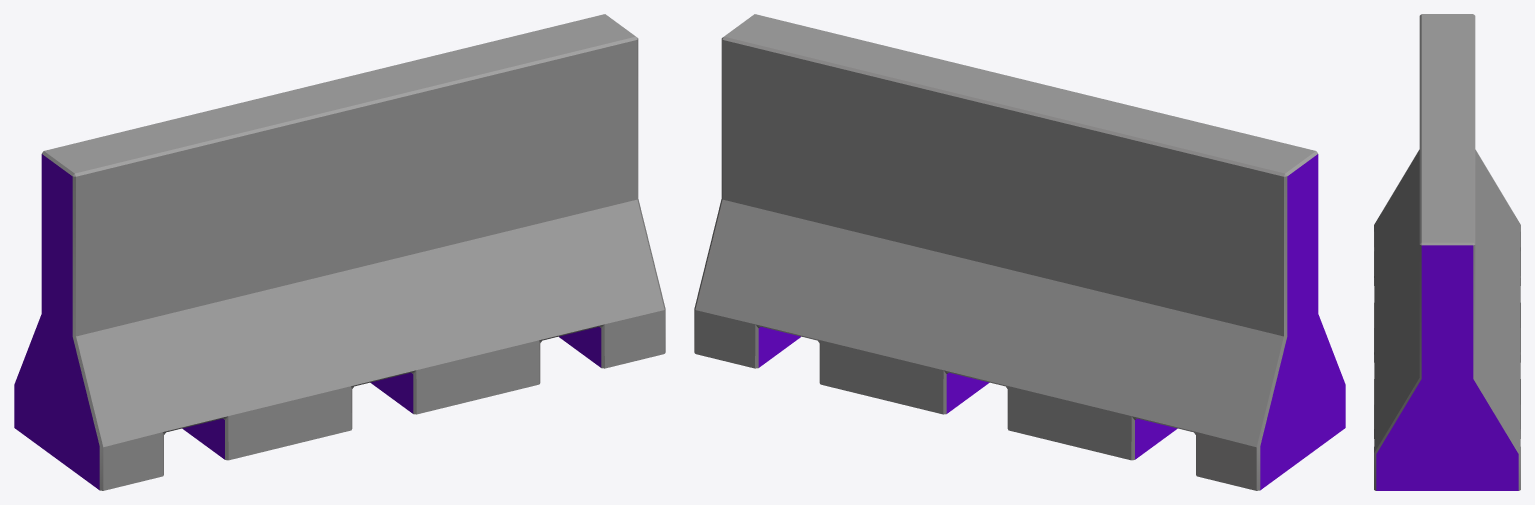
The model's file is Barricade_Concrete_06.fbx.
The picture shows the model from 3 angles, left to right: view 1: azimuth 30°, elevation 25°; view 2: azimuth 150°, elevation 25°; view 3: azimuth 270°, elevation 25°; orthographic projection. The views are drawn at different scales.
Visible parts, largest first — view 1: Obstacle_Barricade_Concrete_06; view 2: Obstacle_Barricade_Concrete_06; view 3: Obstacle_Barricade_Concrete_06.
Part boxes in pixels (box(x1,y1,x2,y2)): Obstacle_Barricade_Concrete_06: box(14, 14, 665, 490); Obstacle_Barricade_Concrete_06: box(694, 14, 1345, 490); Obstacle_Barricade_Concrete_06: box(1374, 14, 1520, 490).
Size of the model in its own units: 128 by 64.19 by 34.54.
1 material, 1 textured.
